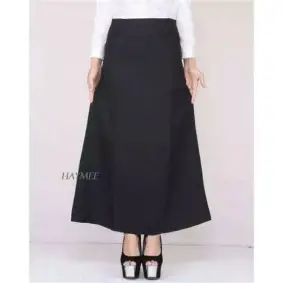rok_benar: (73, 23, 208, 227)
